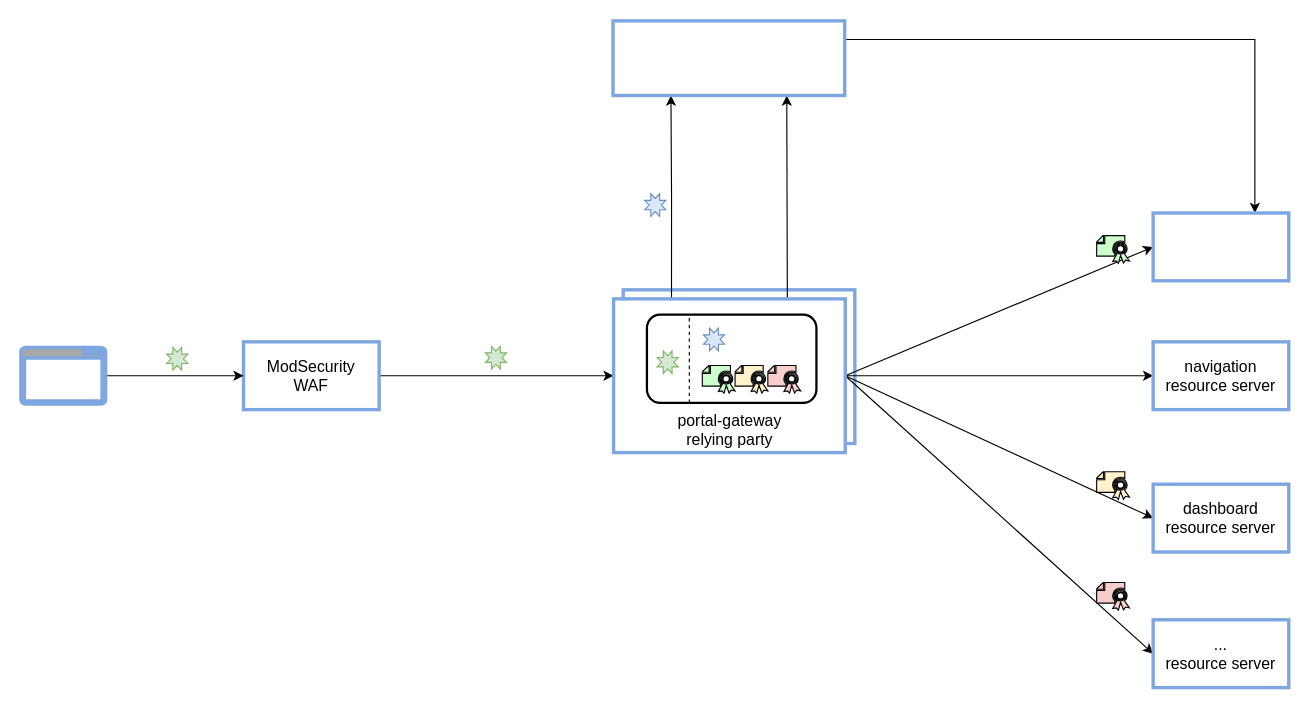
This 1310x709 diagram has some shape labels left out. Each missing label, with the centre of its shape:
Browser: pixel 63 375
organisation resource server: pixel 1220 246
portal-iam: pixel 728 58
